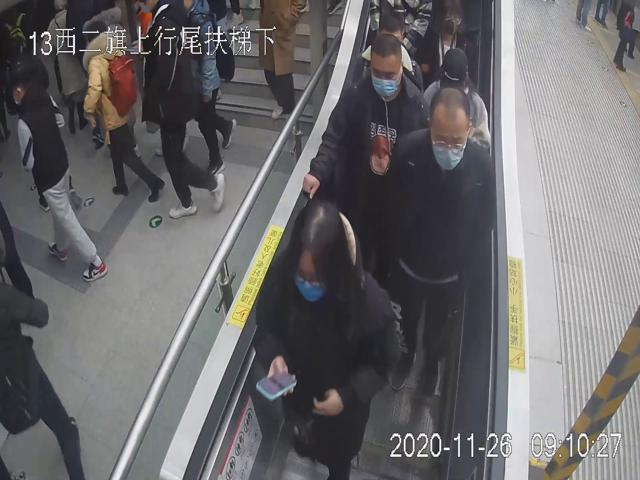person: (254, 198, 387, 478), (382, 84, 498, 400), (7, 62, 108, 284), (301, 32, 432, 199), (75, 23, 164, 204)
